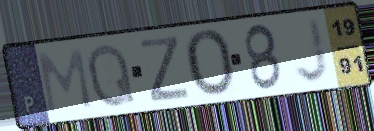8: (243, 21, 284, 92)
J: (292, 15, 332, 85)
M: (35, 46, 96, 116)
O: (182, 27, 237, 100)
Q: (85, 40, 138, 110)
Z: (138, 34, 192, 105)
